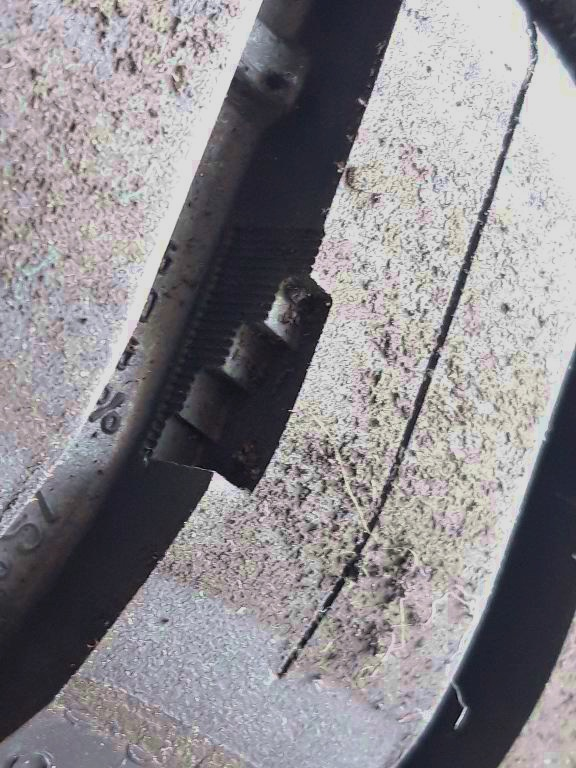temoin:95: (129, 210, 345, 512)
